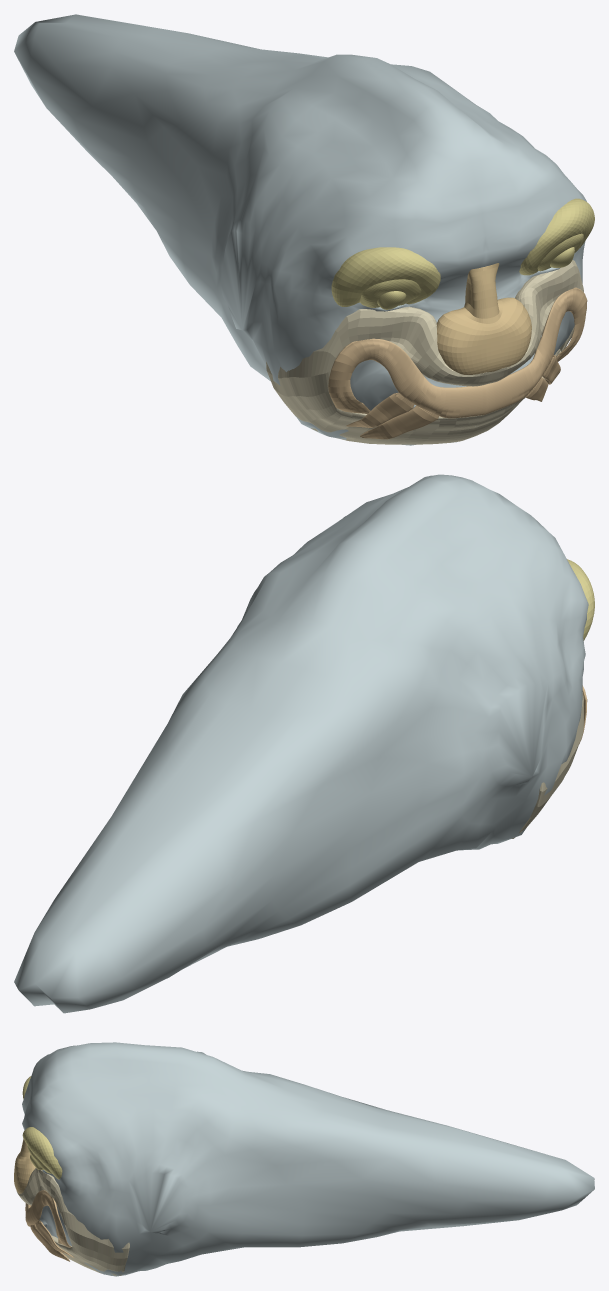
The model's file is ClabezaClava.fbx.
3 renders of one model, top to bottom at view 1: azimuth 30°, elevation 25°; view 2: azimuth 150°, elevation 25°; view 3: azimuth 270°, elevation 25°, orthographic. The views are drawn at different scales.
Parts seen in each view (by area): view 1: cabezaclavaMesh, cabezaclavaMesh.004, cabezaclavaMesh.001, cabezaclavaMesh.002, cabezaclavaMesh.003; view 2: cabezaclavaMesh, cabezaclavaMesh.004; view 3: cabezaclavaMesh, cabezaclavaMesh.004, cabezaclavaMesh.001, cabezaclavaMesh.002, cabezaclavaMesh.003.
Boxes of the visible parts, x1=… form: cabezaclavaMesh: x1=14, y1=14, x2=586, y2=445; cabezaclavaMesh.004: x1=266, y1=260, x2=583, y2=444; cabezaclavaMesh.001: x1=328, y1=287, x2=587, y2=439; cabezaclavaMesh.002: x1=331, y1=198, x2=594, y2=309; cabezaclavaMesh.003: x1=436, y1=263, x2=531, y2=374; cabezaclavaMesh: x1=14, y1=474, x2=588, y2=1013; cabezaclavaMesh.004: x1=511, y1=692, x2=583, y2=838; cabezaclavaMesh: x1=22, y1=1042, x2=594, y2=1276; cabezaclavaMesh.004: x1=16, y1=1168, x2=129, y2=1275; cabezaclavaMesh.001: x1=25, y1=1190, x2=73, y2=1261; cabezaclavaMesh.002: x1=22, y1=1076, x2=62, y2=1179; cabezaclavaMesh.003: x1=14, y1=1139, x2=35, y2=1193.
Bounding box in the file's own units: 14.84 × 15.79 × 40.37.
